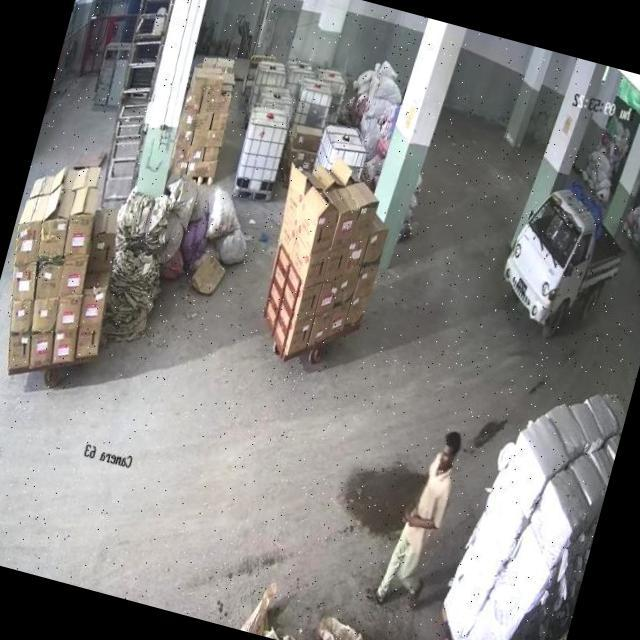person: (366, 421, 468, 617)
